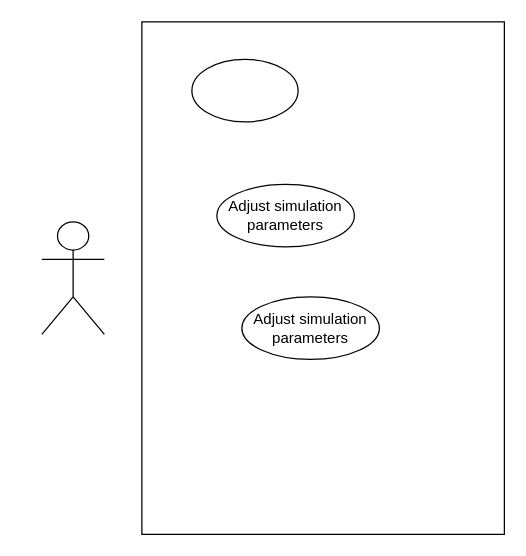
Some shapes in this 526 by 556 pixel diagram are drawn without their labels. Each missing label, with the centre of its shape:
"Commands" goes at point 244,90.
"Robot Operator" goes at point 72,277.
